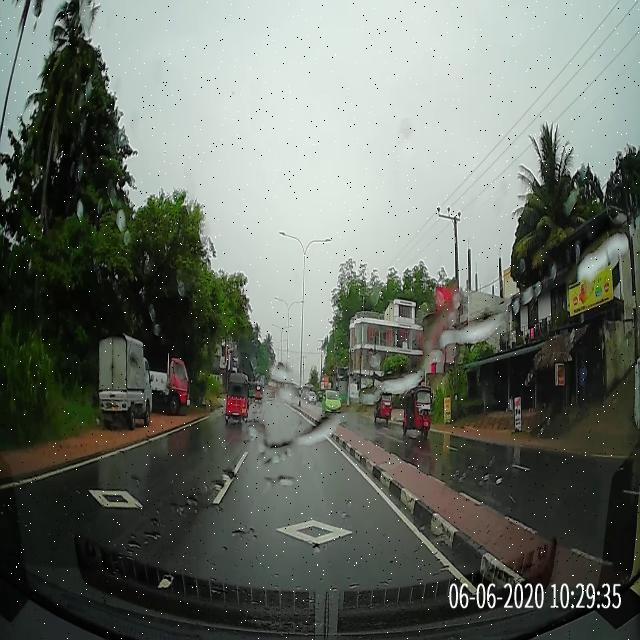diamond: (162, 477, 465, 577)
